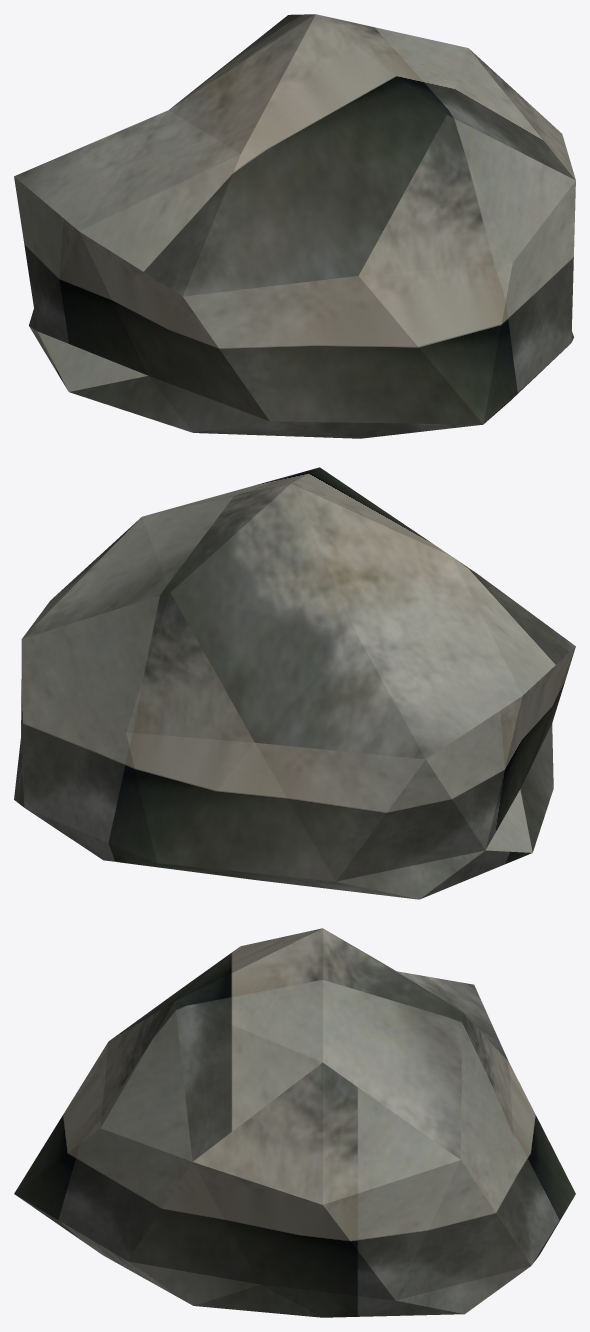
The model's file is terrain2_rock_2.glb.
3 renders of one model, top to bottom at view 1: azimuth 30°, elevation 25°; view 2: azimuth 150°, elevation 25°; view 3: azimuth 270°, elevation 25°, orthographic. The views are drawn at different scales.
Visible parts, largest first — view 1: terrain2_rock_2.glb; view 2: terrain2_rock_2.glb; view 3: terrain2_rock_2.glb.
Part boxes in pixels (box(x1,y1,x2,y2)): terrain2_rock_2.glb: box(14, 14, 575, 438); terrain2_rock_2.glb: box(14, 467, 575, 899); terrain2_rock_2.glb: box(14, 928, 575, 1317).
Size of the model in its own units: 5.09 by 3.13 by 5.44.
Materials: 1 (1 with a texture image).
